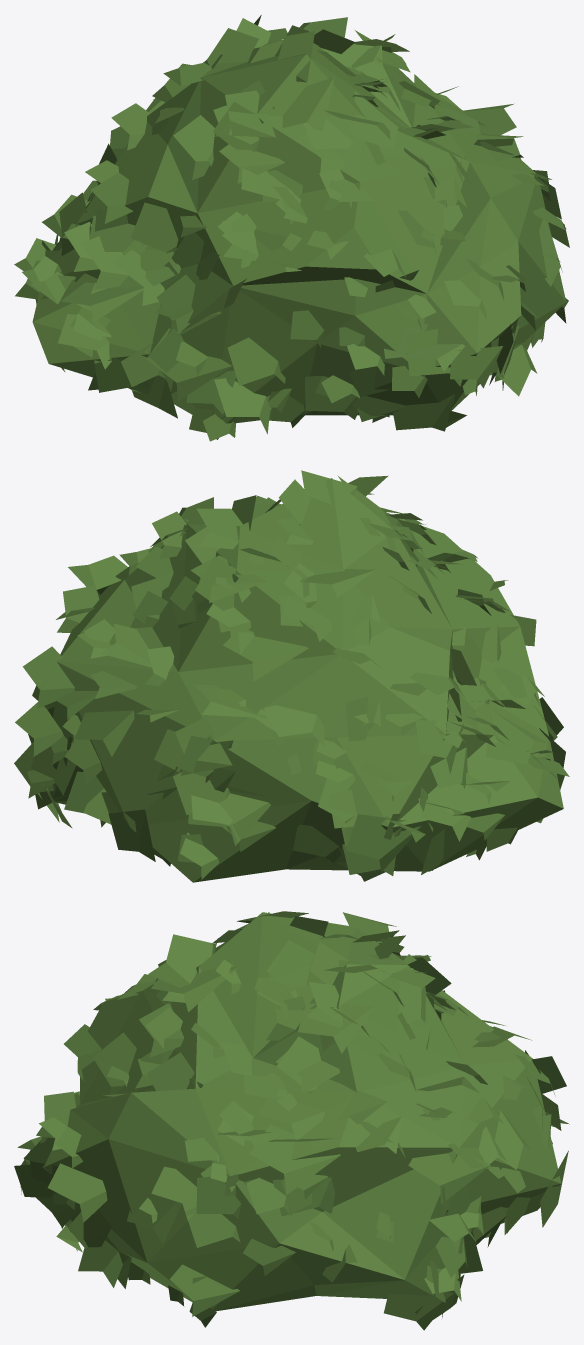
The model's file is SM_Bush_Blackberry_Mature_A.fbx.
3 views of the same model, one above another, from view 1: azimuth 30°, elevation 25°; view 2: azimuth 150°, elevation 25°; view 3: azimuth 270°, elevation 25° (orthographic).
Parts seen in each view (by area): view 1: bush-blackberry-mature-a; view 2: bush-blackberry-mature-a; view 3: bush-blackberry-mature-a.
Boxes of the visible parts, x1,y1,x2,y2 form: bush-blackberry-mature-a: (14, 15, 569, 441); bush-blackberry-mature-a: (14, 470, 569, 882); bush-blackberry-mature-a: (14, 911, 569, 1330).
Size of the model in its own units: 2.64 by 1.78 by 2.66.
